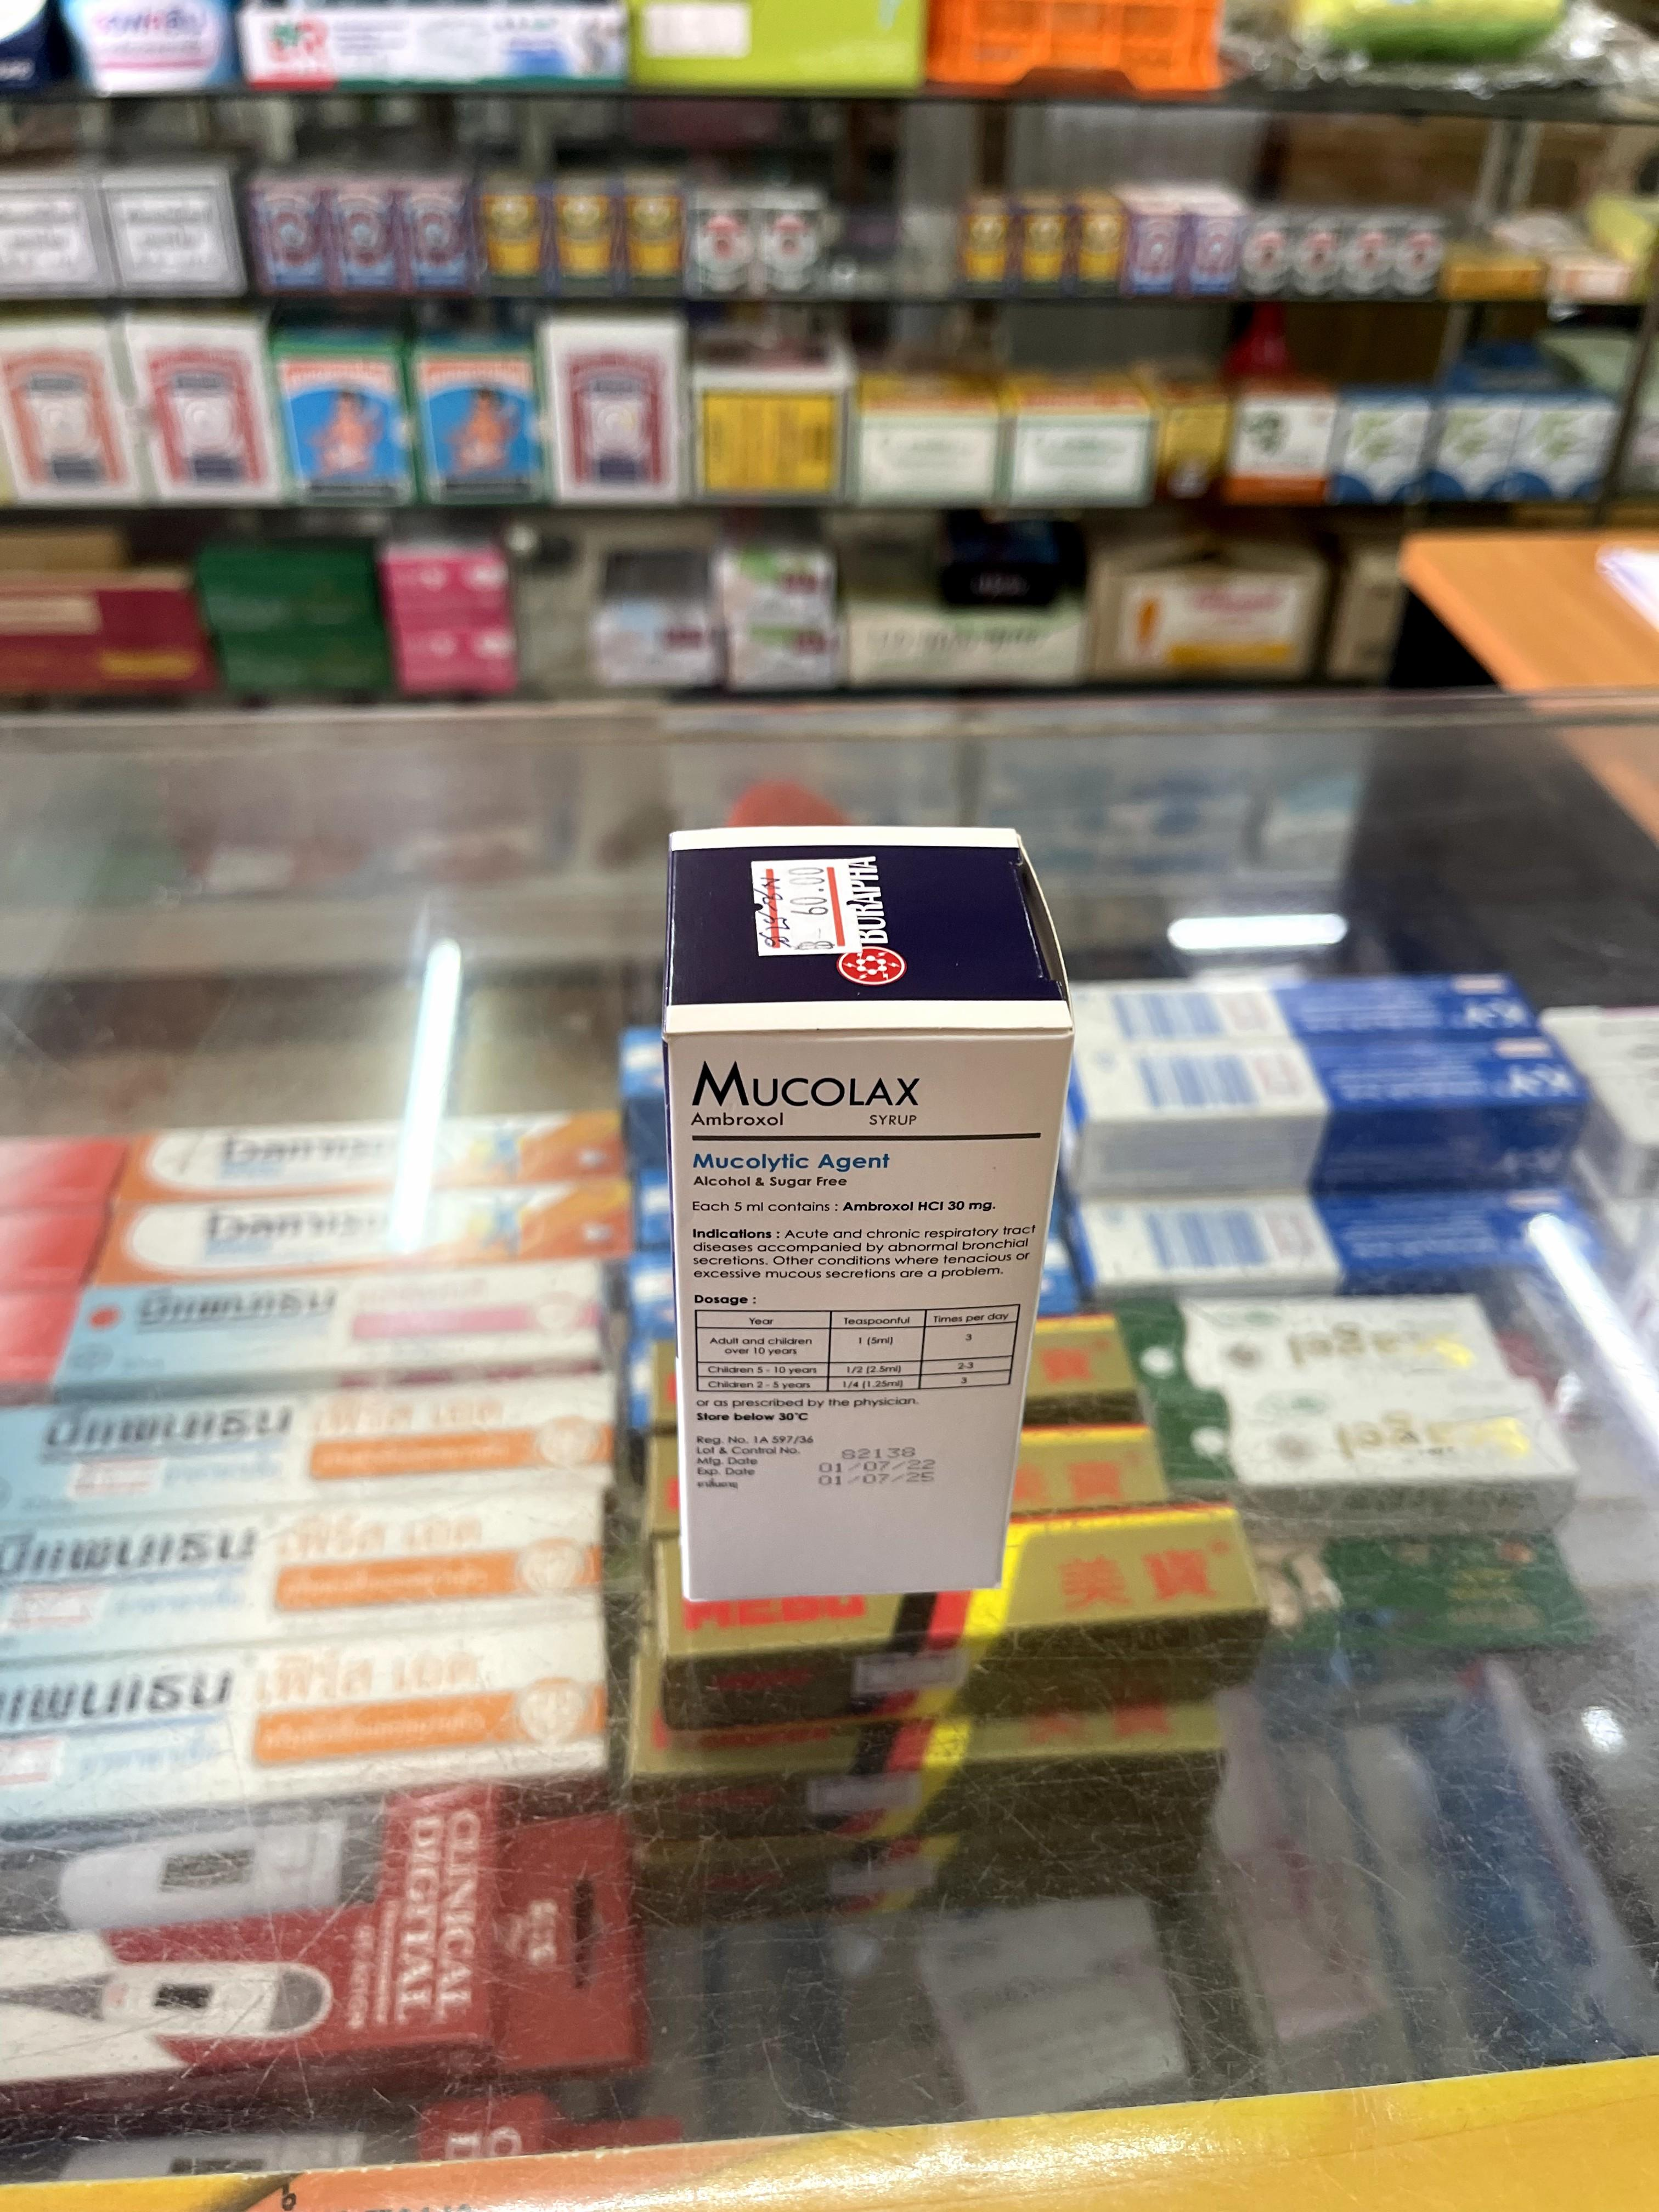Mucolax: (660, 819, 1079, 1602)
